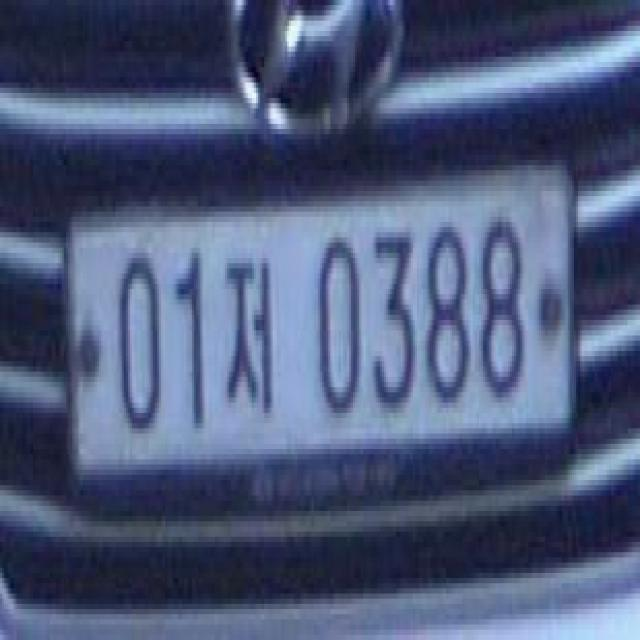illegal_plate: (67, 163, 580, 504)
